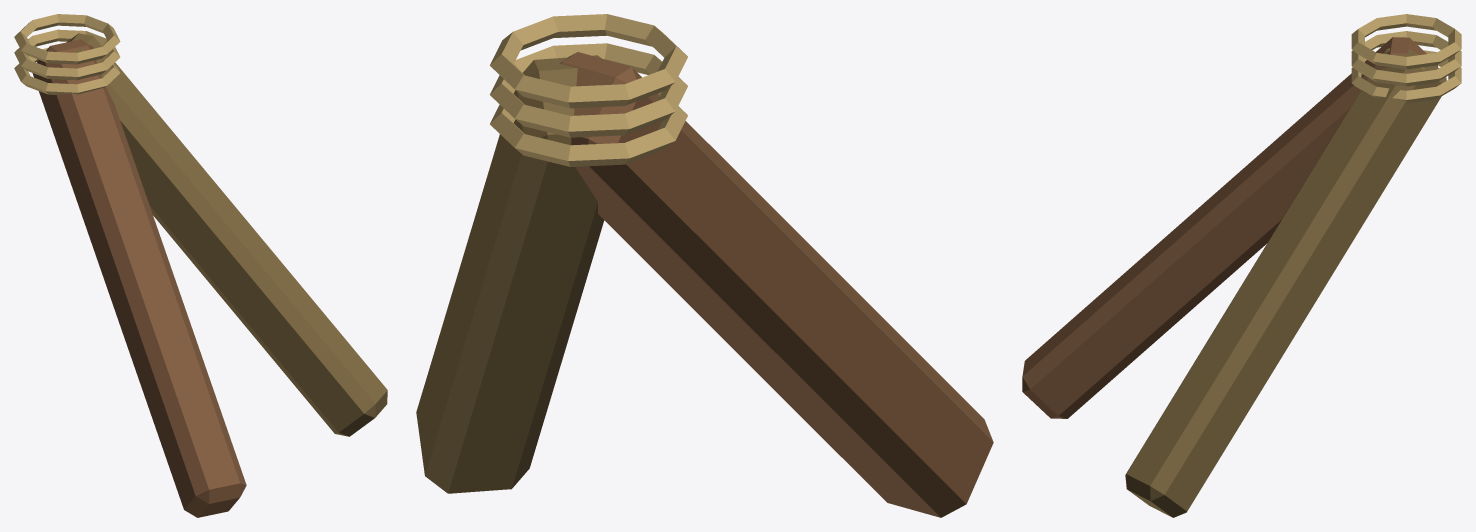
The model's file is rootfall-brace-right.glb.
3 views of the same model, side by side, from view 1: azimuth 30°, elevation 25°; view 2: azimuth 150°, elevation 25°; view 3: azimuth 270°, elevation 25° (orthographic). The views are drawn at different scales.
Parts seen in each view (by area): view 1: rootfall-brace-right; view 2: rootfall-brace-right; view 3: rootfall-brace-right.
Part boxes in pixels (x1,y1,x2,y2): rootfall-brace-right: (14,14,387,517); rootfall-brace-right: (416,14,993,517); rootfall-brace-right: (1022,14,1461,517).
Size of the model in its own units: 1.17 by 1.59 by 1.64.
Materials: 1 (1 with a texture image).
